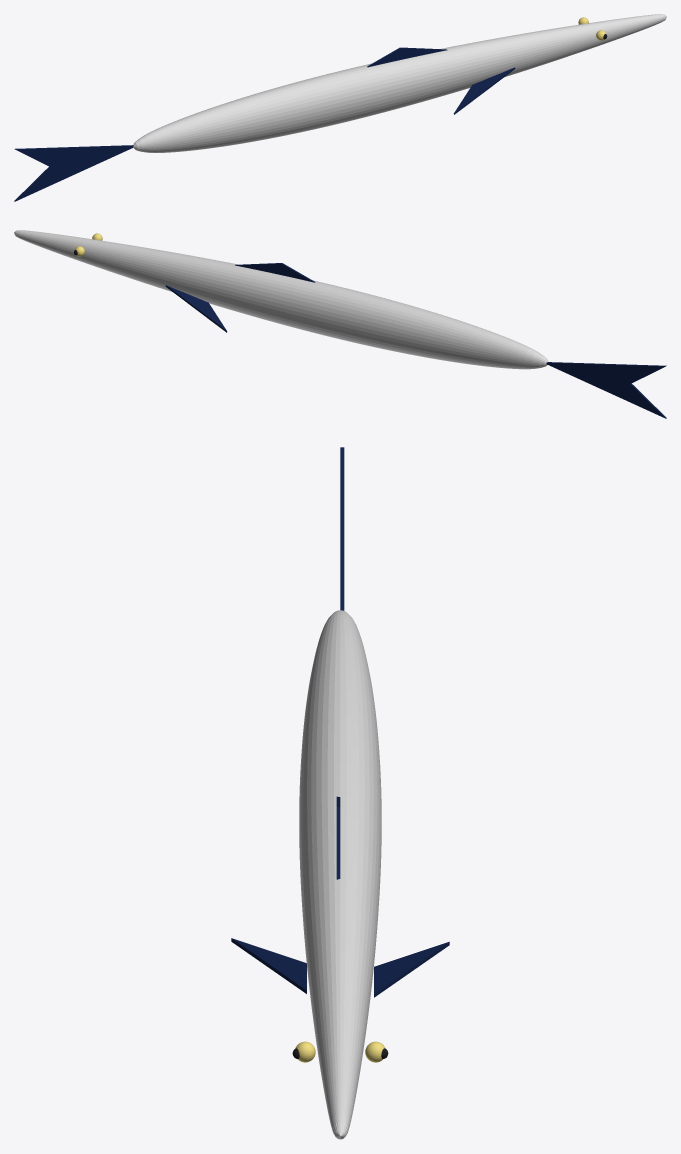
Rendered from fisch_tiefseeaal_roh.glb.
The picture shows the model from 3 angles, top to bottom: view 1: azimuth 30°, elevation 25°; view 2: azimuth 150°, elevation 25°; view 3: azimuth 270°, elevation 25°; orthographic projection. The views are drawn at different scales.
Visible parts, largest first — view 1: koerper, flosse, flosse.003, flosse.001; view 2: koerper, flosse, flosse.002, flosse.001; view 3: koerper, flosse.003, flosse.002.
Part boxes in pixels (x1,y1,x2,y2): koerper: (133, 14, 666, 152); flosse: (14, 145, 133, 201); flosse.003: (453, 67, 515, 114); flosse.001: (367, 47, 447, 67); koerper: (14, 230, 548, 369); flosse: (546, 362, 666, 418); flosse.002: (165, 285, 227, 332); flosse.001: (235, 263, 315, 282); koerper: (299, 610, 381, 1139); flosse.003: (231, 938, 306, 993); flosse.002: (374, 941, 449, 997).
Bounding box in the file's own units: 1.22 × 0.108 × 0.1768.
